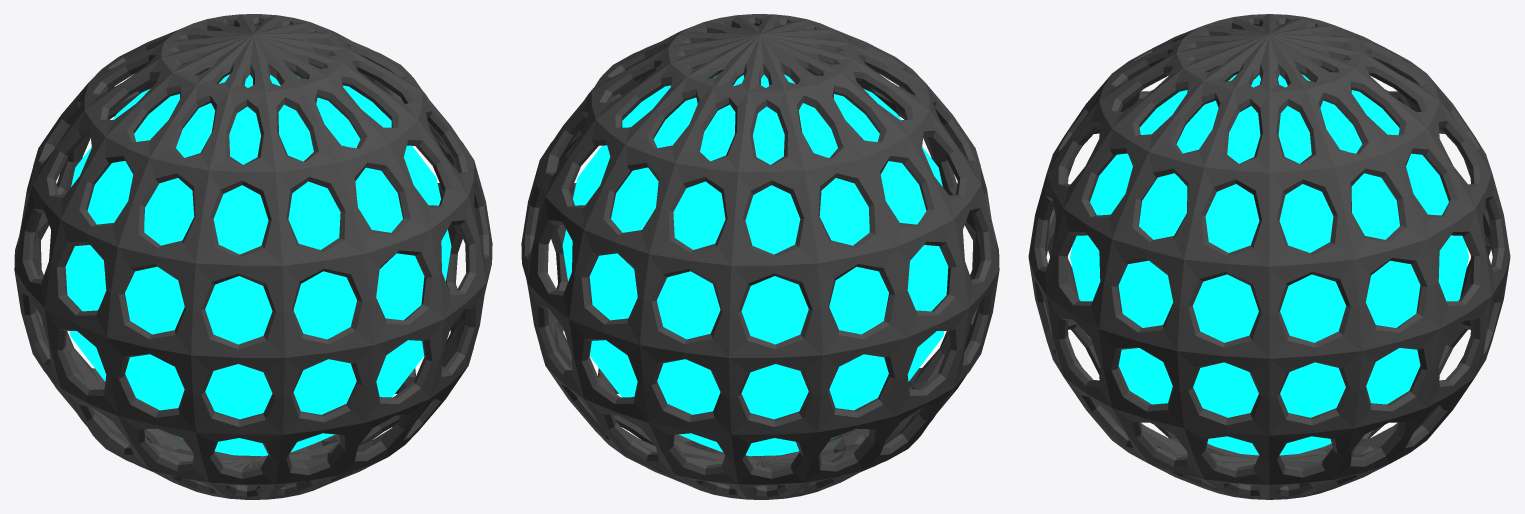
3 renders of one model, left to right at view 1: azimuth 30°, elevation 25°; view 2: azimuth 150°, elevation 25°; view 3: azimuth 270°, elevation 25°, orthographic.
Visible parts, largest first — view 1: Sphere.001; view 2: Sphere.001; view 3: Sphere.001.
Part boxes in pixels (bbox=[...]): Sphere.001: bbox=[14, 14, 492, 499]; Sphere.001: bbox=[521, 14, 999, 499]; Sphere.001: bbox=[1028, 14, 1510, 499].
Bounding box in the file's own units: 203 × 207 × 203.
